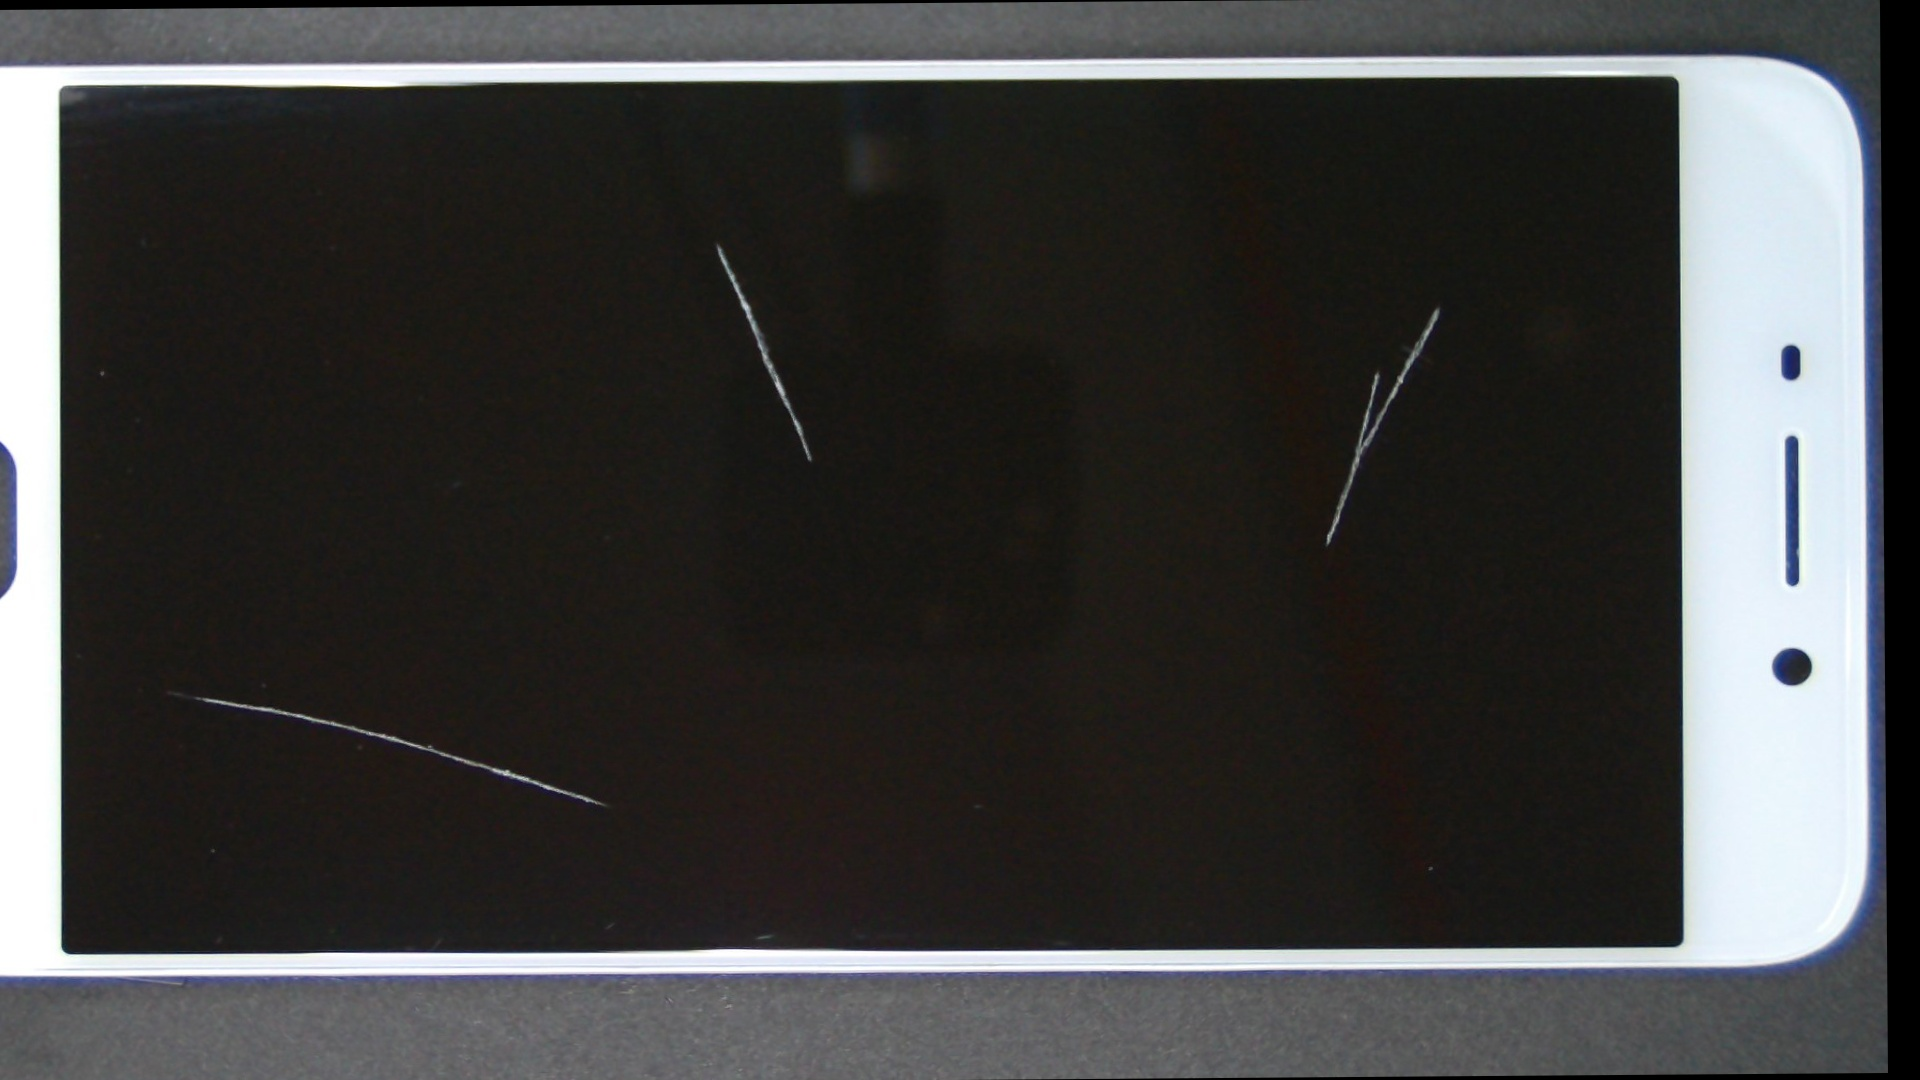oil: (650, 148, 1883, 469), (289, 119, 1147, 365), (12, 348, 320, 1034)
